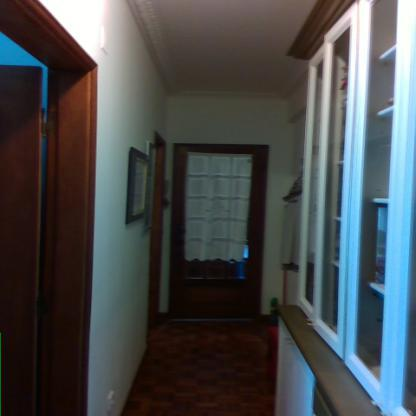door: (176, 146, 265, 318), (1, 64, 43, 416)
hinged: (40, 110, 52, 138)
